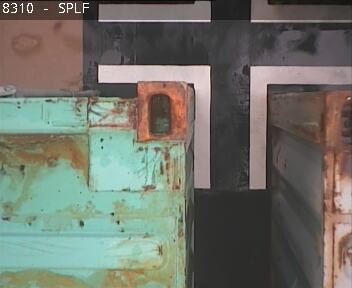groundmarker_1: (98, 64, 352, 189)
